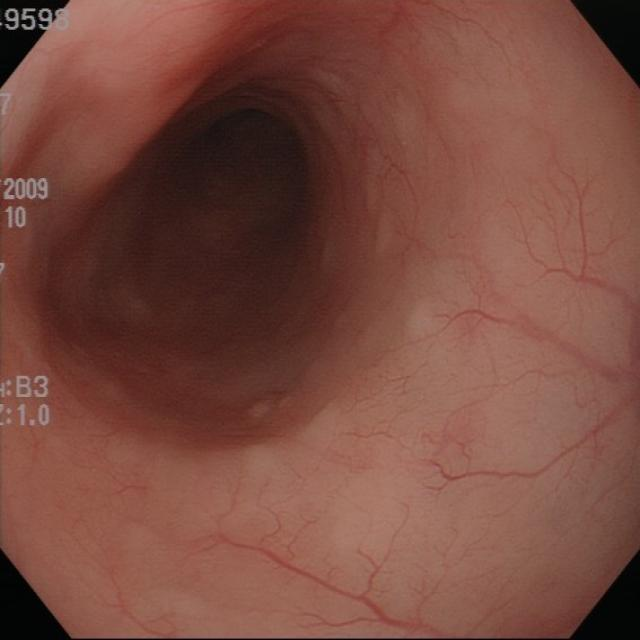A: (155, 3, 292, 89)
E: (132, 97, 326, 327)
S: (2, 375, 53, 429), (2, 8, 72, 34), (2, 176, 51, 202), (4, 206, 28, 230), (2, 92, 14, 119)
